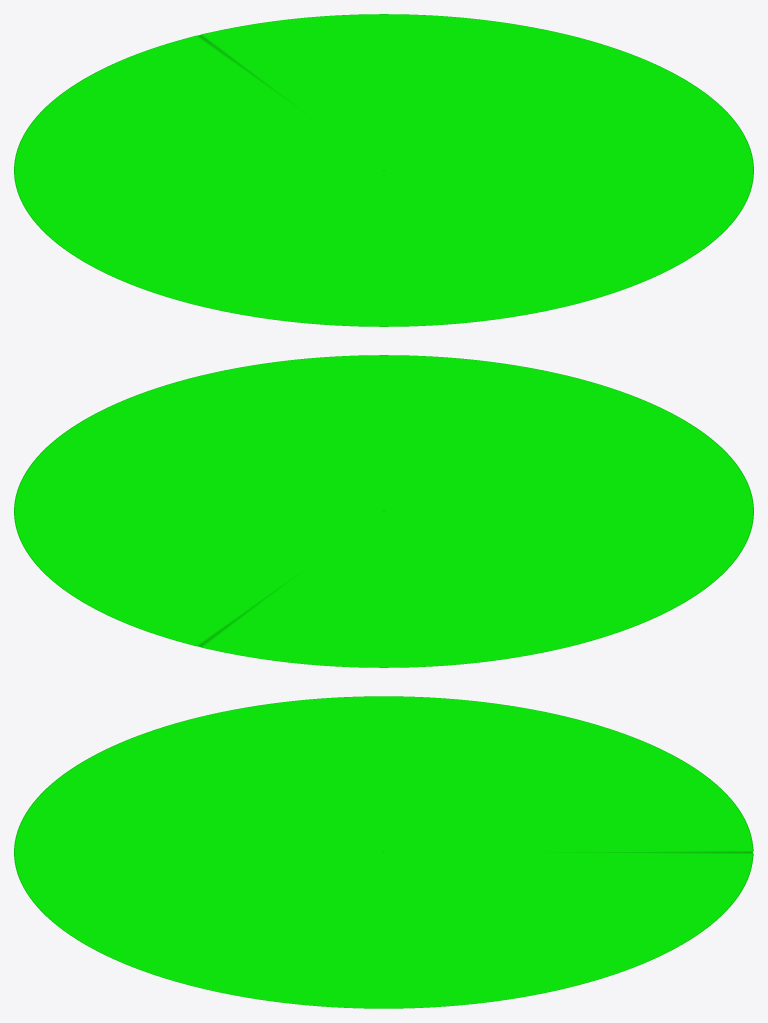
File: spawn_circle.fbx
The picture shows the model from 3 angles, top to bottom: view 1: azimuth 30°, elevation 25°; view 2: azimuth 150°, elevation 25°; view 3: azimuth 270°, elevation 25°; orthographic projection.
Parts seen in each view (by area): view 1: spawn_circle_mat; view 2: spawn_circle_mat; view 3: spawn_circle_mat.
Boxes of the visible parts, x1,y1,x2,y2 form: spawn_circle_mat: (14,14,753,326); spawn_circle_mat: (14,355,753,667); spawn_circle_mat: (14,696,753,1008).
Size of the model in its own units: 2 by 3.63e-05 by 2.
